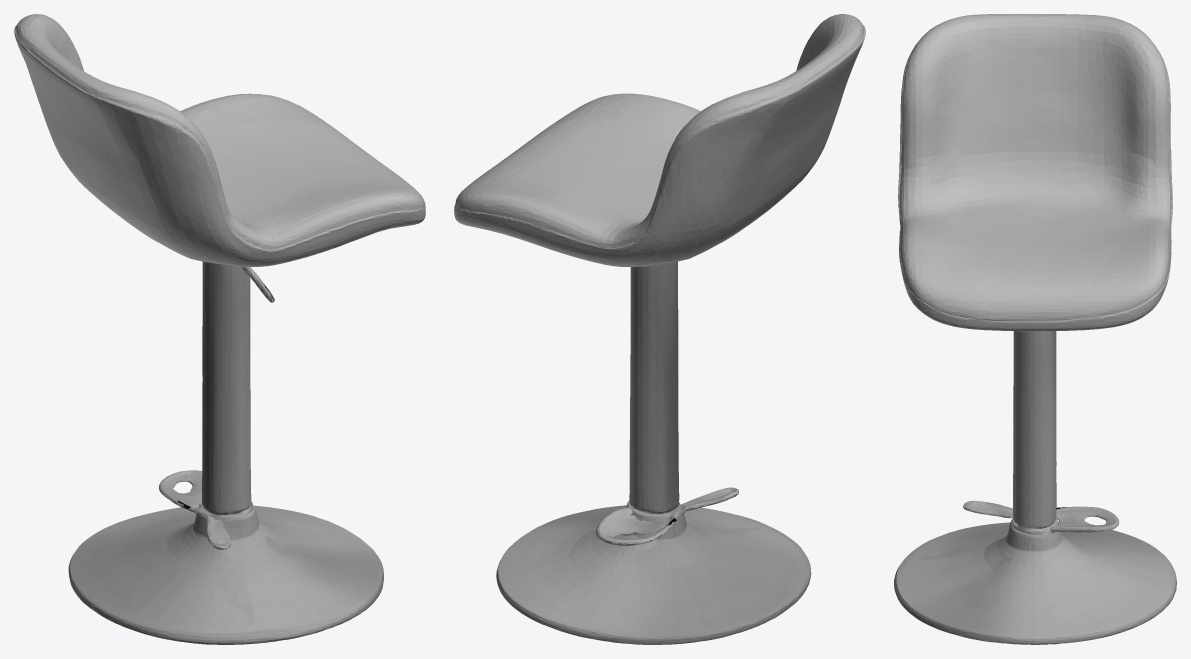
The model's file is bar_stool_35.glb.
3 views of the same model, side by side, from view 1: azimuth 30°, elevation 25°; view 2: azimuth 150°, elevation 25°; view 3: azimuth 270°, elevation 25° (orthographic). The views are drawn at different scales.
Visible parts, largest first — view 1: bar_stool_35.obj; view 2: bar_stool_35.obj; view 3: bar_stool_35.obj.
Part boxes in pixels (bbox=[...]): bar_stool_35.obj: bbox=[14, 14, 425, 644]; bar_stool_35.obj: bbox=[454, 14, 865, 644]; bar_stool_35.obj: bbox=[894, 14, 1176, 644].
Bounding box in the file's own units: 0.5827 × 0.95 × 0.4872.
1 material, 1 textured.
